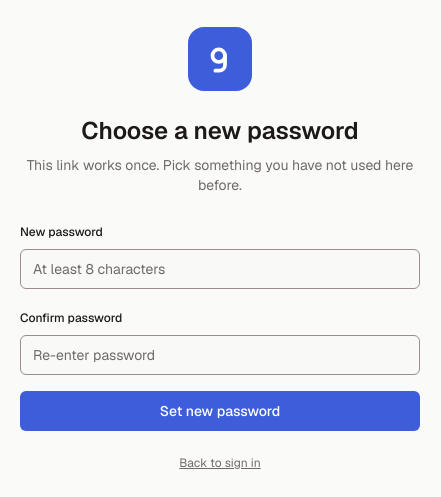
Test case: before anything is sent › rejects a mismatched confirmation
This screenshot has width=441, height=497.
Type "a-good-password" into the password field labelled "New password".
click(220, 268); type("a-good-password")  # box left=20, top=248, right=420, bottom=288
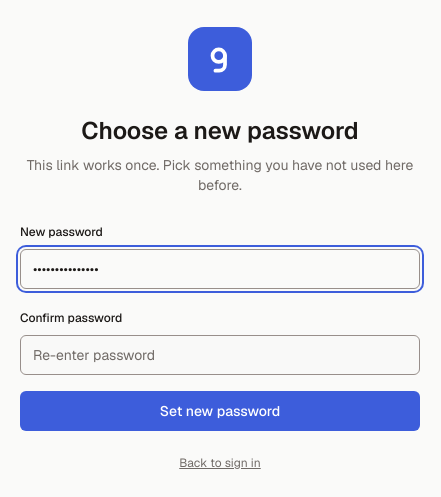
Type "a-different-password" into the password field labelled "Confirm password".
click(220, 354); type("a-different-password")  # box left=20, top=334, right=420, bottom=374
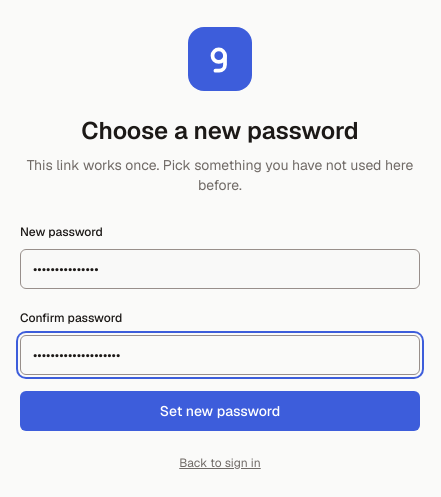
Click the button "Set new password".
click(220, 410)  # box left=20, top=390, right=420, bottom=430
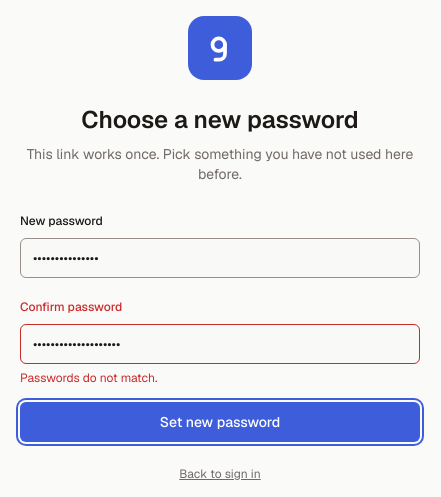
Check: the text "Passwords do not match." is shown, box left=20, top=370, right=157, bottom=386
